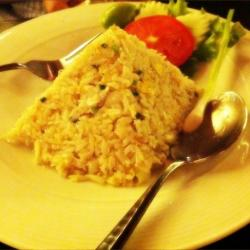rice: (42, 38, 180, 178)
